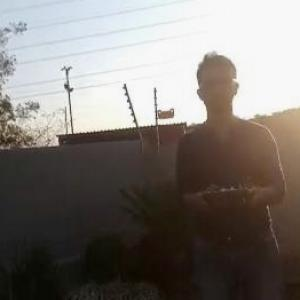follow: (169, 37, 292, 298)
